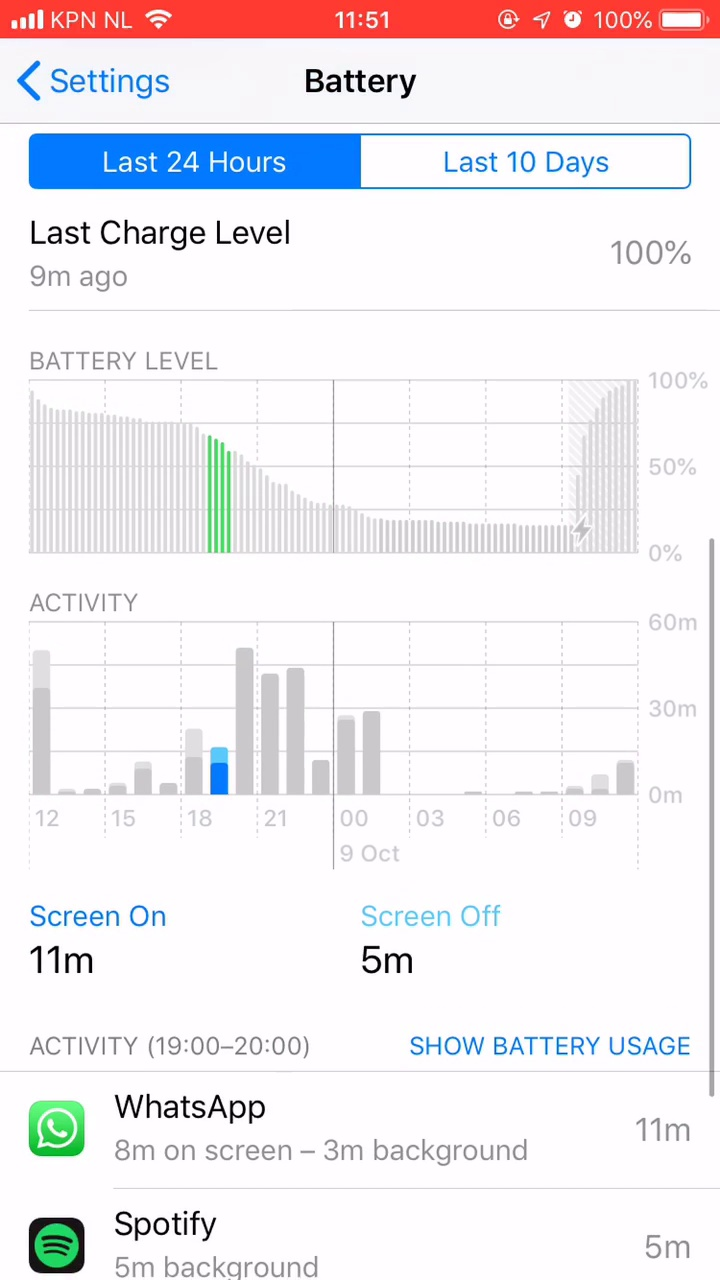activity: (26, 1008, 333, 1061)
app: (17, 1092, 703, 1169), (28, 1202, 714, 1279)
